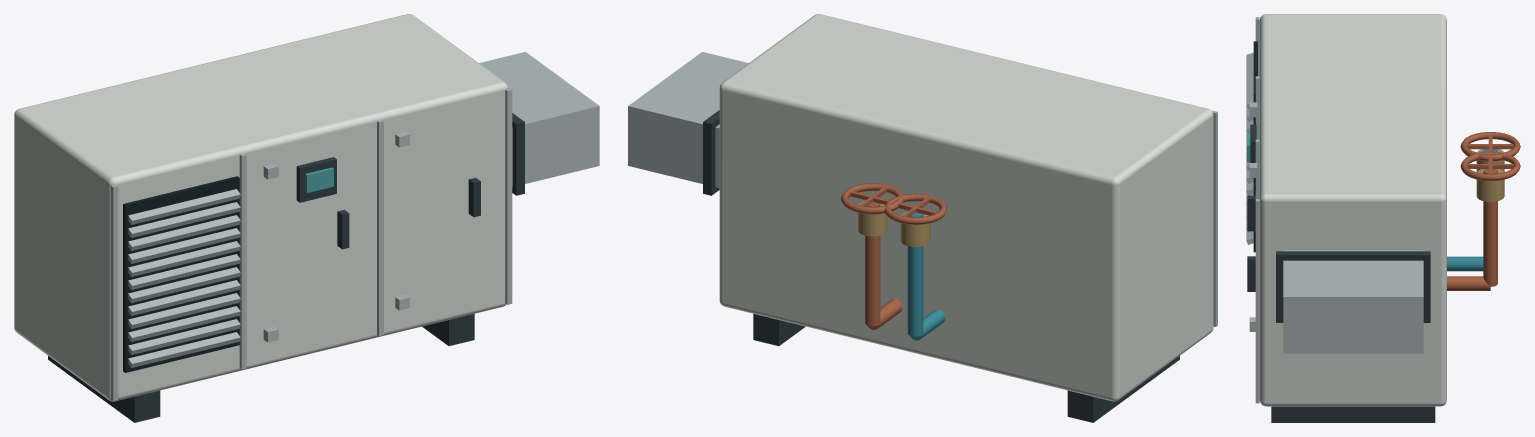
Rendered from air.glb.
3 views of the same model, side by side, from view 1: azimuth 30°, elevation 25°; view 2: azimuth 150°, elevation 25°; view 3: azimuth 270°, elevation 25° (orthographic). The views are drawn at different scales.
Visible parts, largest first — view 1: Ivory enamel, Brushed stainless steel, Rubber and coil fins, Powder coated graphite, Control display; view 2: Ivory enamel, Brushed stainless steel, Return water / terracotta, Powder coated graphite, Chilled water / blue, Valve brass; view 3: Ivory enamel, Brushed stainless steel, Powder coated graphite, Return water / terracotta, Valve brass, Chilled water / blue, Rubber and coil fins.
Boxes of the visible parts, x1=… form: Ivory enamel: x1=14, y1=14, x2=508, y2=401; Brushed stainless steel: x1=111, y1=52, x2=599, y2=400; Rubber and coil fins: x1=123, y1=176, x2=239, y2=372; Powder coated graphite: x1=48, y1=113, x2=524, y2=422; Control display: x1=305, y1=167, x2=333, y2=192; Ivory enamel: x1=719, y1=14, x2=1213, y2=401; Brushed stainless steel: x1=628, y1=52, x2=1217, y2=326; Return water / terracotta: x1=841, y1=183, x2=947, y2=329; Powder coated graphite: x1=703, y1=110, x2=1179, y2=422; Chilled water / blue: x1=907, y1=212, x2=945, y2=340; Valve brass: x1=858, y1=201, x2=930, y2=246; Ivory enamel: x1=1259, y1=14, x2=1446, y2=406; Brushed stainless steel: x1=1246, y1=17, x2=1423, y2=403; Powder coated graphite: x1=1247, y1=124, x2=1435, y2=422; Return water / terracotta: x1=1447, y1=132, x2=1520, y2=290; Valve brass: x1=1476, y1=149, x2=1504, y2=201; Chilled water / blue: x1=1447, y1=149, x2=1497, y2=271; Rubber and coil fins: x1=1253, y1=41, x2=1257, y2=252.
Bounding box in the file's own units: 3.51 × 1.7 × 1.76.
